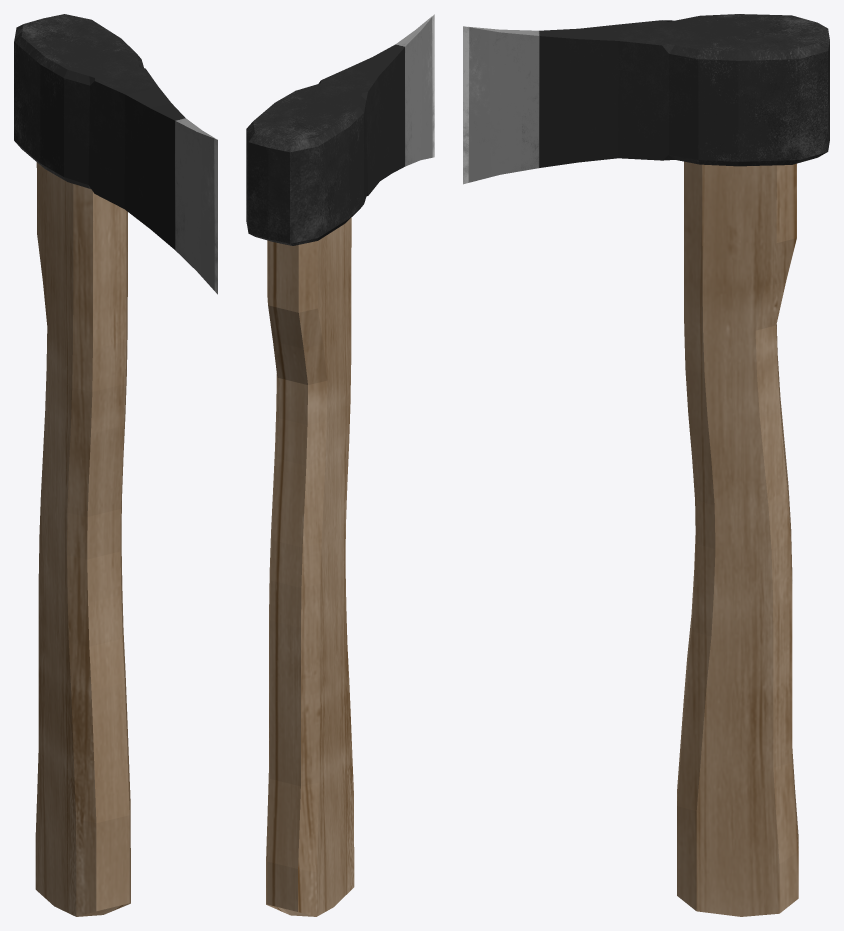
Rendered from 무기_손도끼.fbx.
3 views of the same model, side by side, from view 1: azimuth 30°, elevation 25°; view 2: azimuth 150°, elevation 25°; view 3: azimuth 270°, elevation 25° (orthographic). The views are drawn at different scales.
Visible parts, largest first — view 1: 손도끼; view 2: 손도끼; view 3: 손도끼.
Part boxes in pixels (x1=…): 손도끼: x1=14, y1=14, x2=217, y2=916; 손도끼: x1=246, y1=14, x2=434, y2=916; 손도끼: x1=463, y1=14, x2=829, y2=916.
Size of the model in its own units: 4.79 by 46.76 by 17.52.
